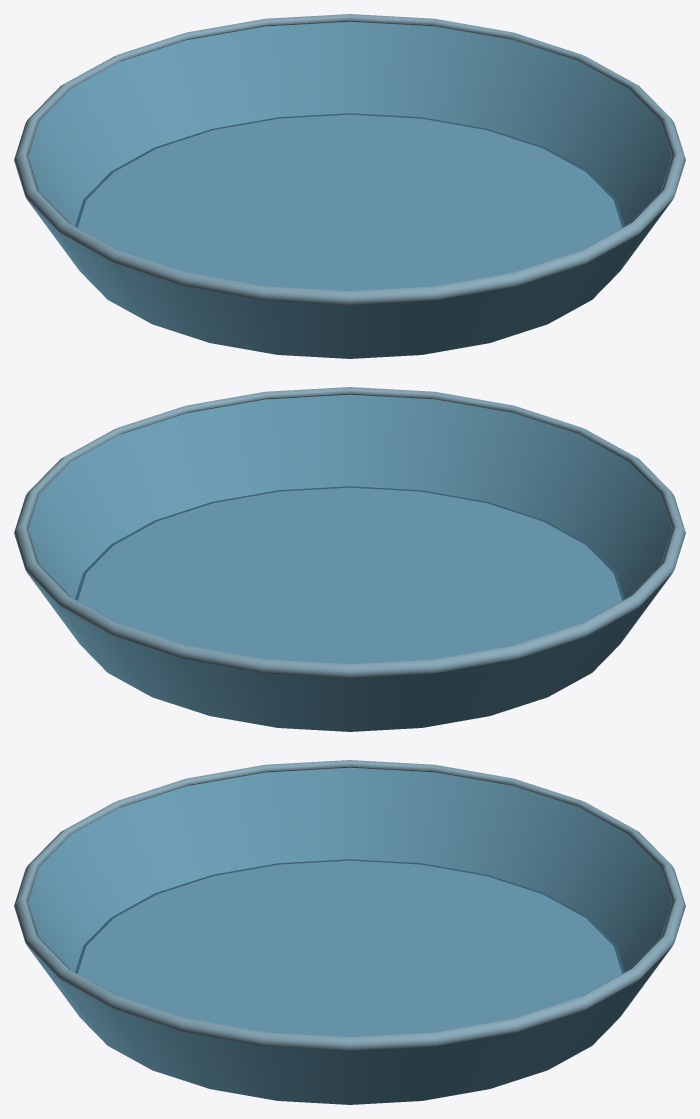
File: Tazon.FBX
The picture shows the model from 3 angles, top to bottom: view 1: azimuth 30°, elevation 25°; view 2: azimuth 150°, elevation 25°; view 3: azimuth 270°, elevation 25°; orthographic projection.
Visible parts, largest first — view 1: Cylinder002; view 2: Cylinder002; view 3: Cylinder002.
Part boxes in pixels (x1,y1,x2,y2): Cylinder002: (14, 14, 685, 358); Cylinder002: (14, 387, 685, 731); Cylinder002: (14, 760, 685, 1104).
Bounding box in the file's own units: 134 × 134 × 19.35.
